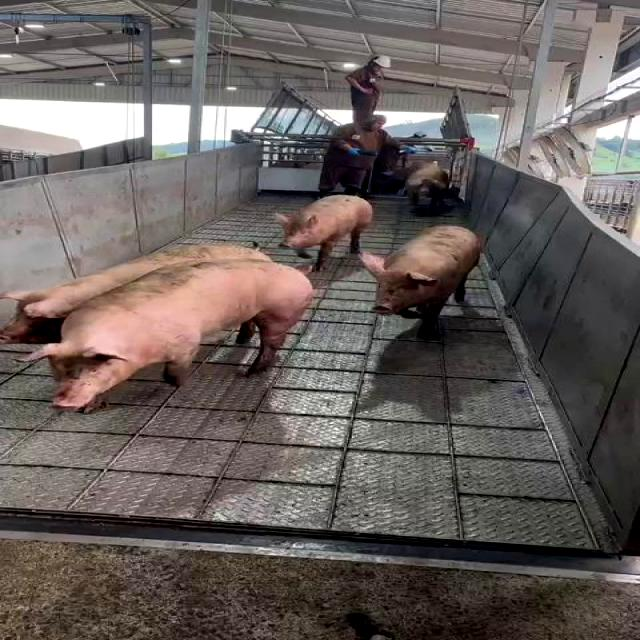pig: (21, 260, 314, 409), (0, 244, 269, 343), (363, 226, 481, 335), (276, 195, 372, 269), (406, 163, 449, 206)
